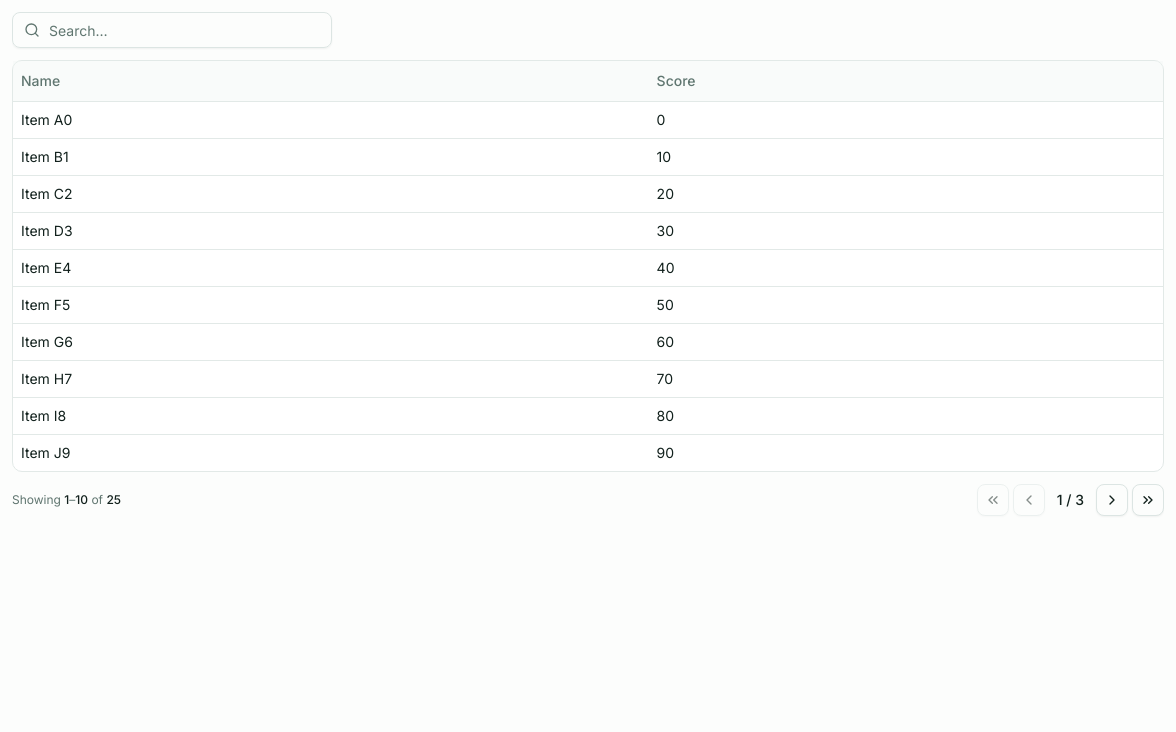
Test: DataTable — pagination › renders 10 rows on the first page and paginates forward
Expected: the text "1 / 3" is shown, [1057, 490, 1084, 508]
Click the 5th button: (1112, 500) [1096, 484, 1128, 516]
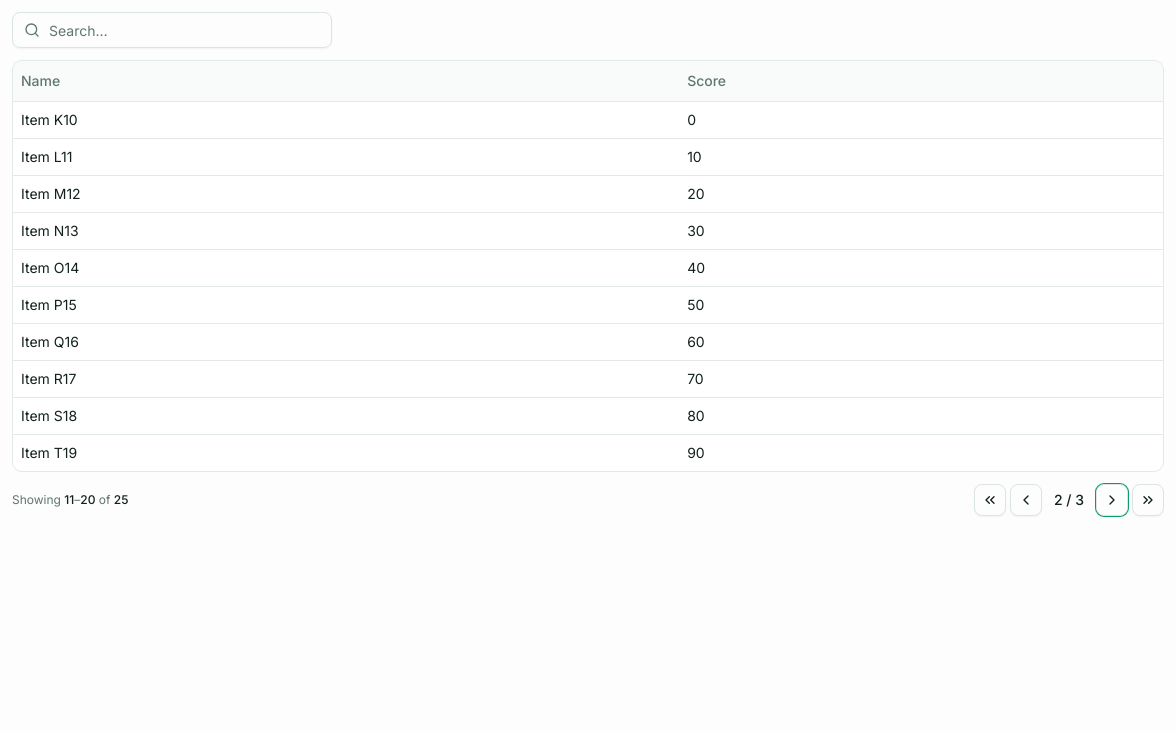
Now the text "2 / 3" is shown, box [1054, 490, 1084, 508]
